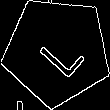L_NW: (28, 23, 85, 80)
